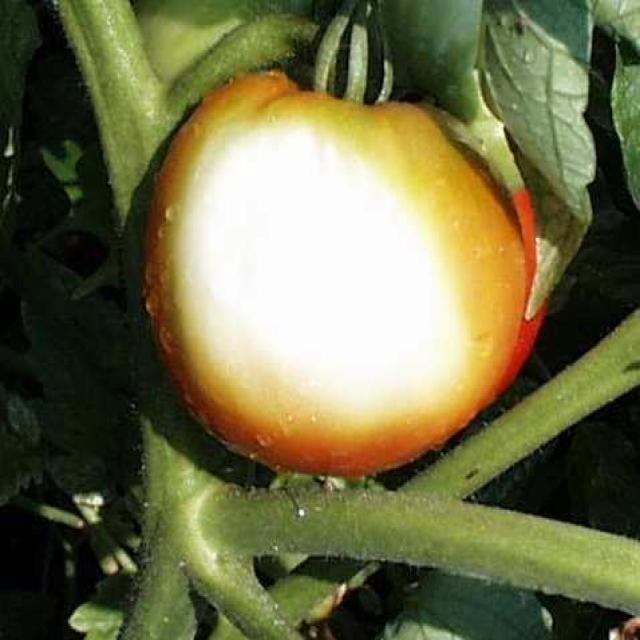Sunscald Fruit: (110, 73, 317, 286)
